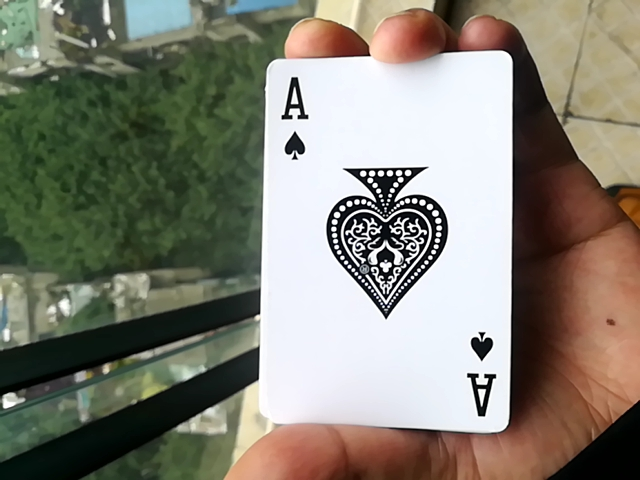ht a: (245, 66, 510, 439)
